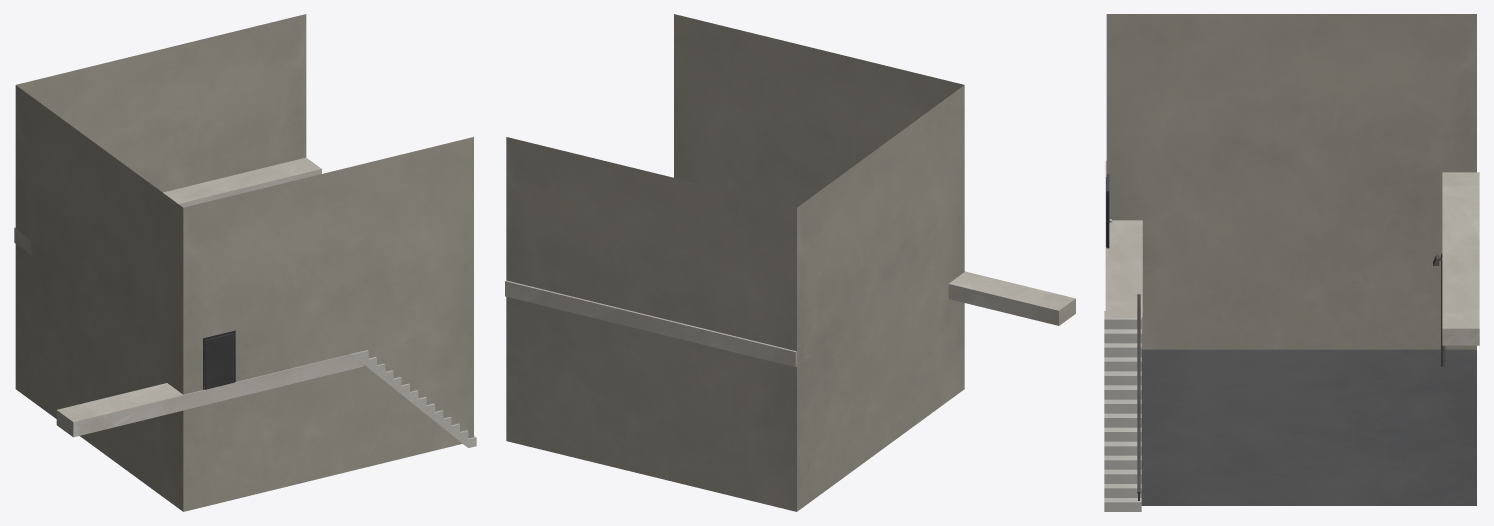
The model's file is Arena_Scene.fbx.
3 views of the same model, side by side, from view 1: azimuth 30°, elevation 25°; view 2: azimuth 150°, elevation 25°; view 3: azimuth 270°, elevation 25° (orthographic). The views are drawn at different scales.
Parts seen in each view (by area): view 1: Wall.001, Wall, Wall.002, Walkway.001, Walkway, Door, Stairs, Stairs.001; view 2: Wall.002, Wall, Wall.001, Walkway, Walkway.001; view 3: Wall, Ground, Walkway, Walkway.001, Stairs, Stairs.001.
Part boxes in pixels (box(x1,y1,x2,y2)): Wall.001: box(183, 137, 473, 511); Wall: box(15, 85, 183, 511); Wall.002: box(16, 14, 306, 192); Walkway.001: box(56, 351, 363, 437); Walkway: box(14, 157, 321, 254); Door: box(205, 333, 234, 389); Stairs: box(410, 397, 476, 447); Stairs.001: box(352, 350, 418, 401); Wall.002: box(506, 137, 796, 511); Wall: box(797, 85, 964, 511); Wall.001: box(674, 14, 963, 207); Walkway: box(505, 280, 811, 367); Walkway.001: box(948, 271, 1075, 325); Wall: box(1106, 14, 1476, 349); Ground: box(1141, 349, 1476, 505); Walkway: box(1442, 172, 1479, 345); Walkway.001: box(1105, 160, 1142, 333); Stairs: box(1104, 413, 1141, 511); Stairs.001: box(1104, 311, 1141, 413).
Bounding box in the file's own units: 2089 × 1523 × 1519.
9 materials, 9 textured.
